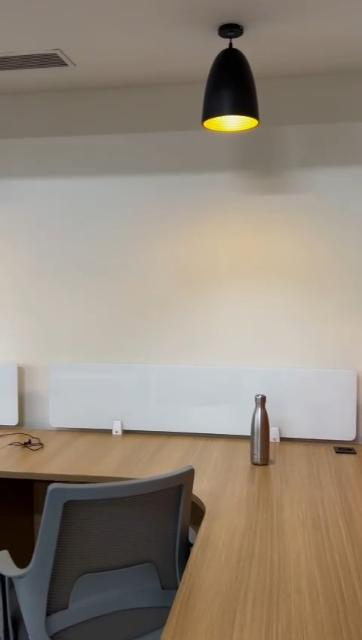object: (0, 468, 204, 640), (234, 383, 280, 473)
wall: (0, 147, 362, 351), (264, 7, 362, 149), (1, 79, 198, 143), (0, 2, 208, 48), (83, 42, 203, 88)
